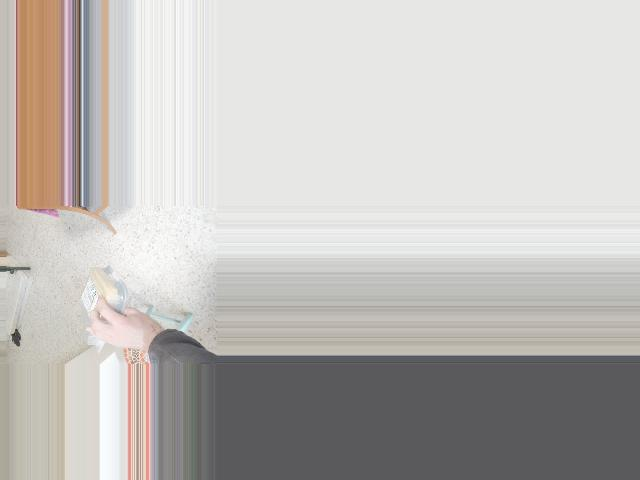cheese: (79, 264, 121, 328)
